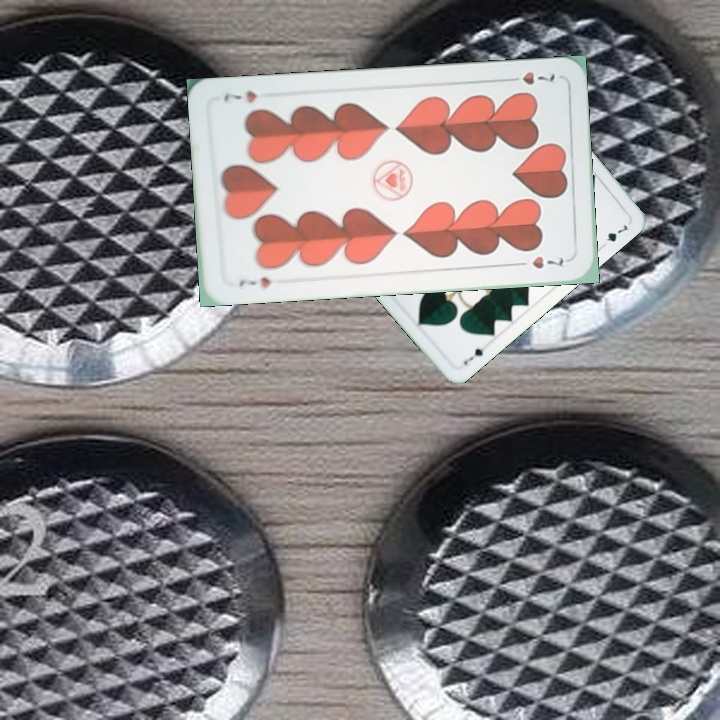G7: (460, 342, 490, 368)
H7: (501, 67, 558, 87), (234, 272, 274, 291)
